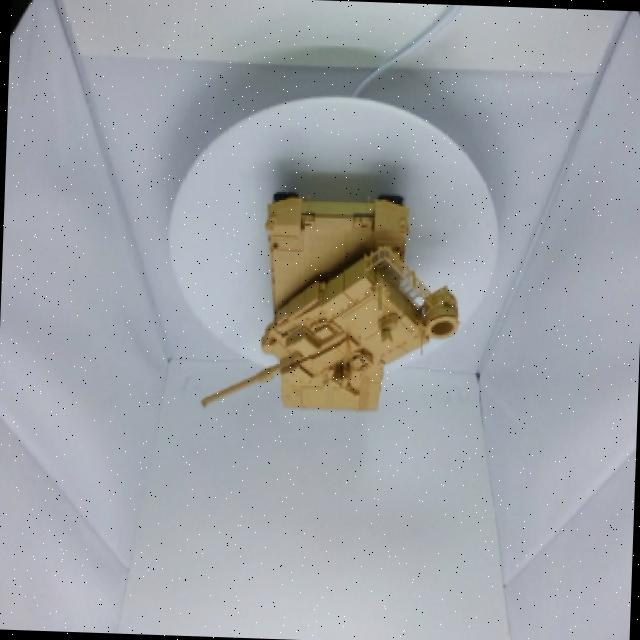korea tank: (146, 160, 485, 466)
